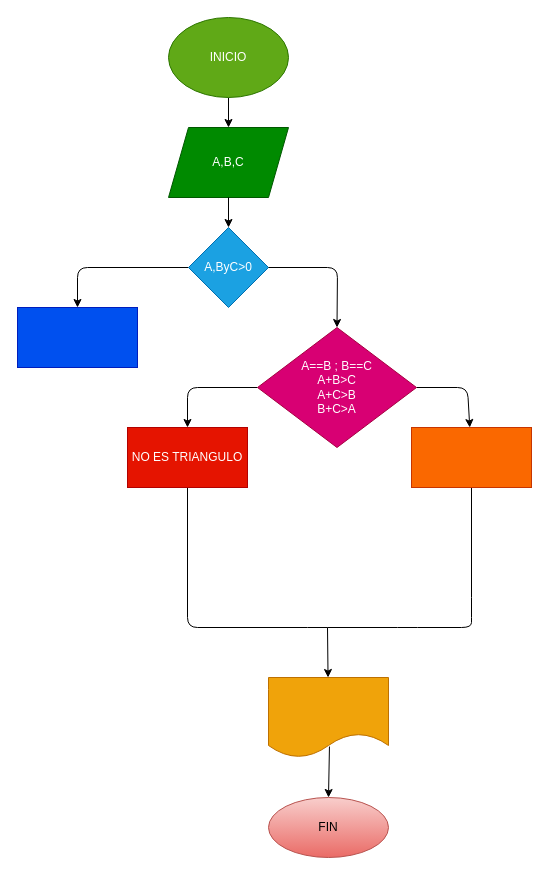
Some shapes in this 549 by 875 pixel diagram are drawn without their labels. The box of each missing label's shape, as (x1, y1, x2, y2) in pixels:
alguno de los valores dados es incorrecto: (16, 306, 138, 368)
ES TRIANGULO: (410, 426, 532, 488)
SOLUCIÓN: (268, 676, 388, 758)
